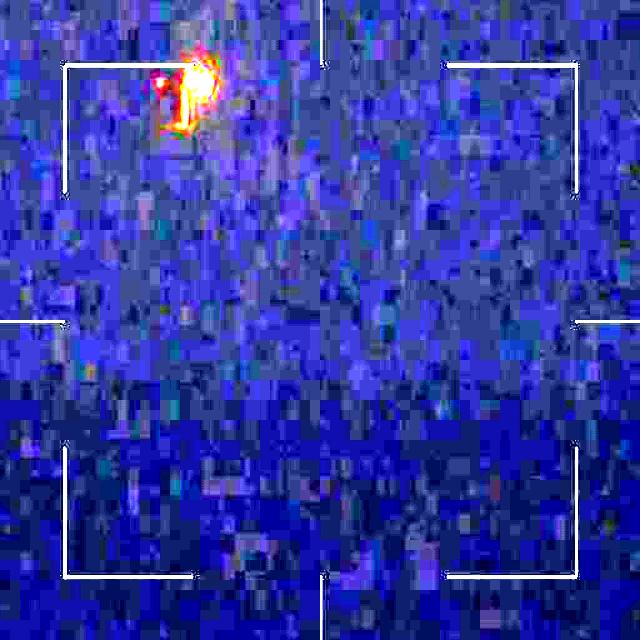bird: (146, 61, 215, 146)
